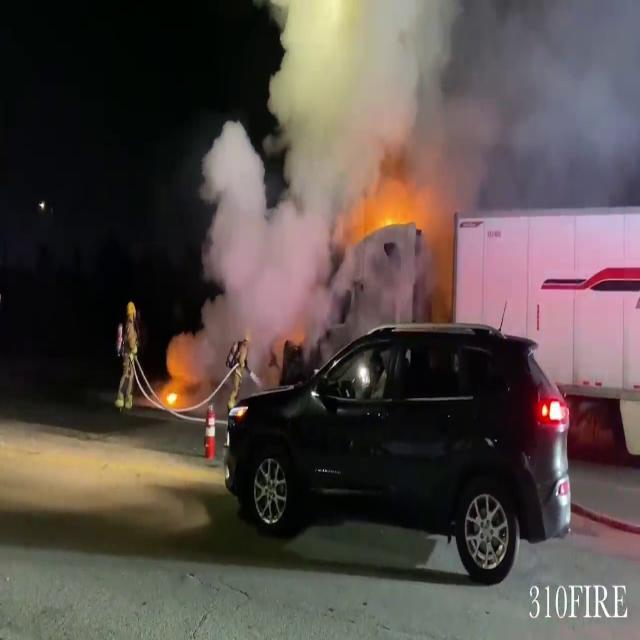Smoke: (193, 0, 640, 316)
